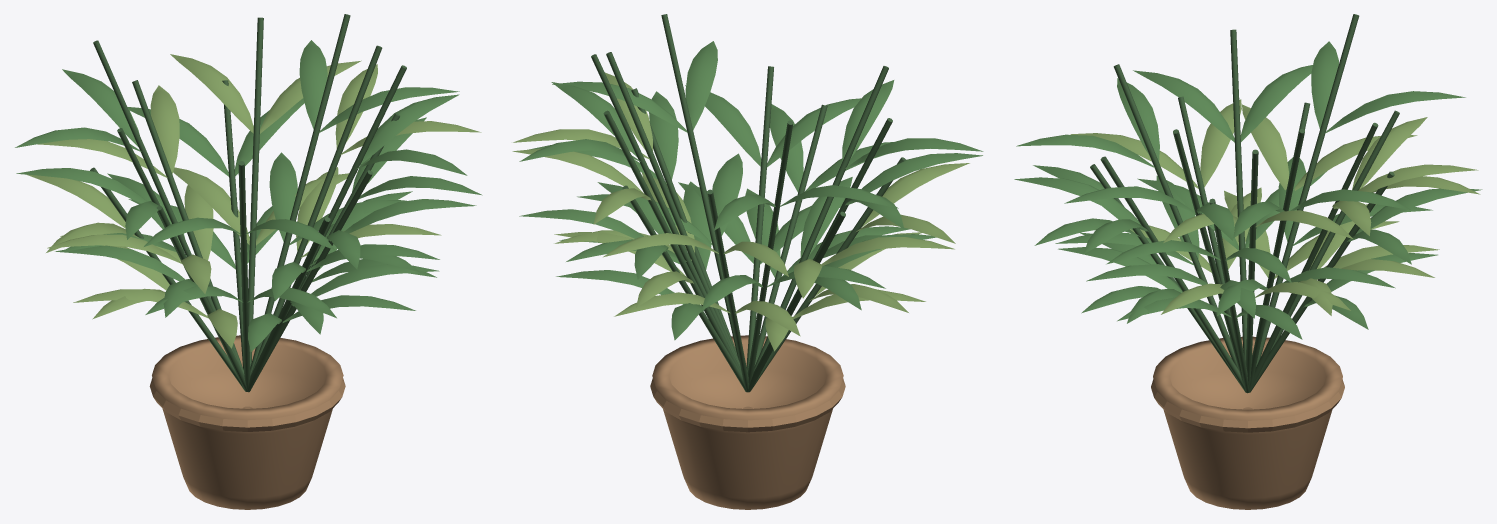
Rendered from SM_HH_Q3_NarrowHerb.fbx.
3 renders of one model, left to right at view 1: azimuth 30°, elevation 25°; view 2: azimuth 150°, elevation 25°; view 3: azimuth 270°, elevation 25°, orthographic.
Parts seen in each view (by area): view 1: HH_Q3_NarrowHerb; view 2: HH_Q3_NarrowHerb; view 3: HH_Q3_NarrowHerb.
Part boxes in pixels (box(x1,y1,x2,y2)): HH_Q3_NarrowHerb: box(15, 14, 482, 509); HH_Q3_NarrowHerb: box(512, 14, 983, 509); HH_Q3_NarrowHerb: box(1014, 14, 1482, 509).
Bounding box in the file's own units: 0.9067 × 0.9065 × 0.9226.
